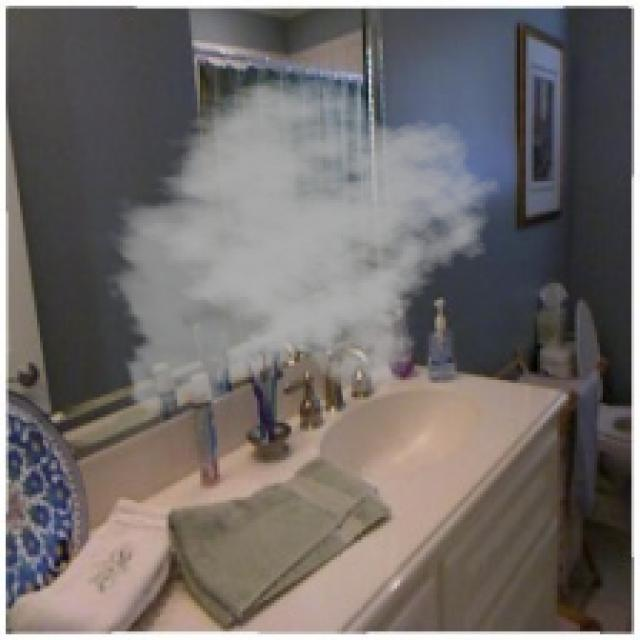smoke: (103, 77, 503, 429)
